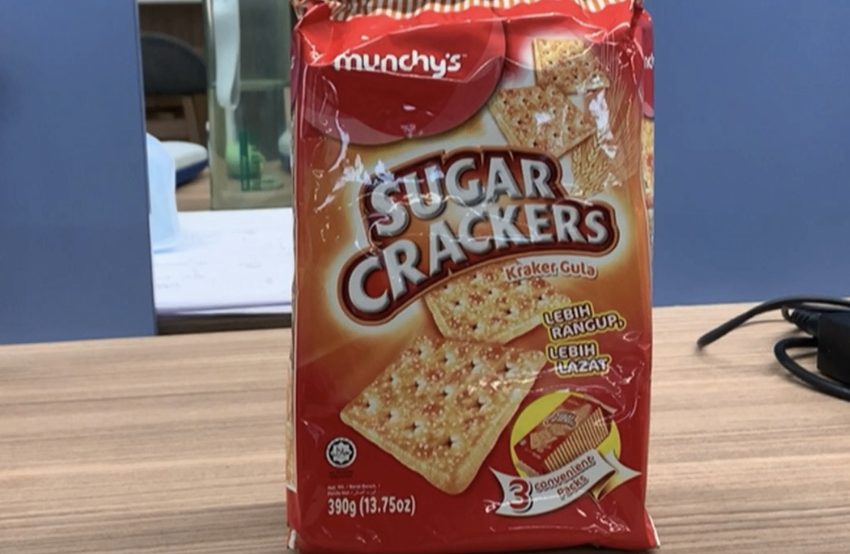crackers_450g: (309, 21, 632, 527)
